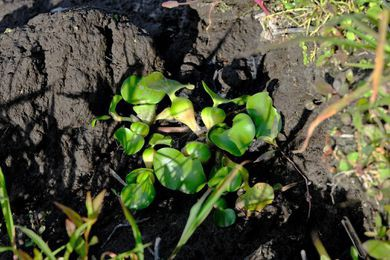water_hyacinth: (99, 70, 286, 232)
